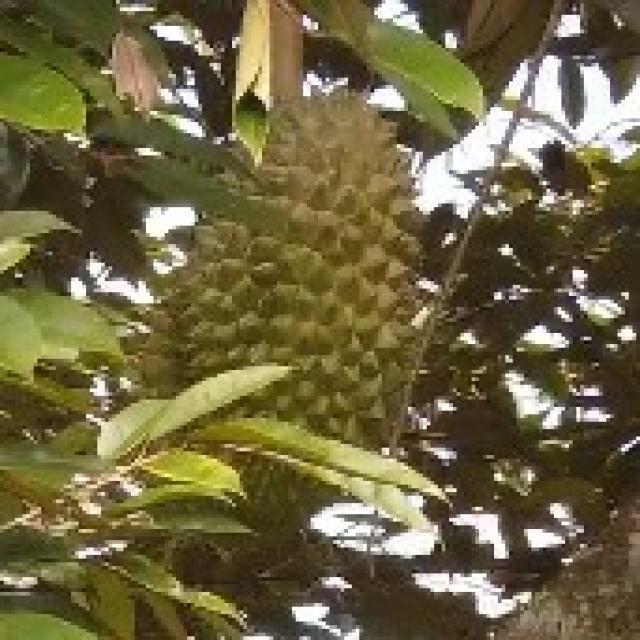immature: (159, 81, 423, 499)
